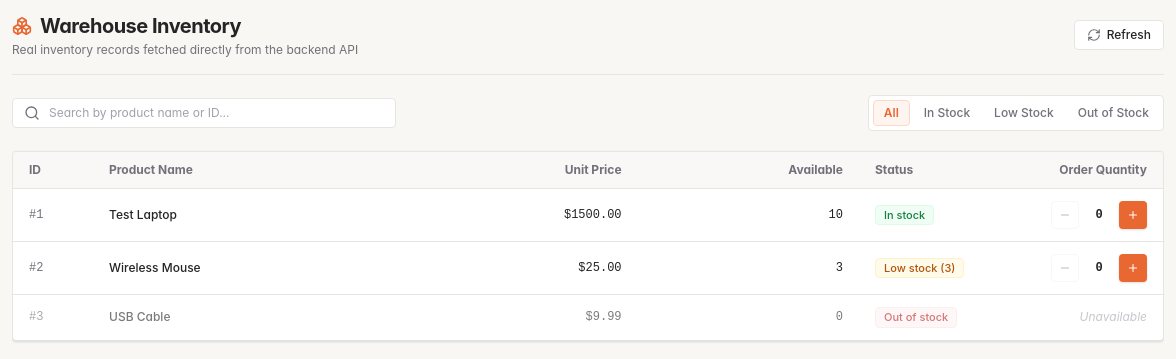
it: ProductsPage Component › filters by stock status (Low Stock, Out of Stock)
Click the button "Low Stock" at [1024, 113], box [984,101,1064,125]
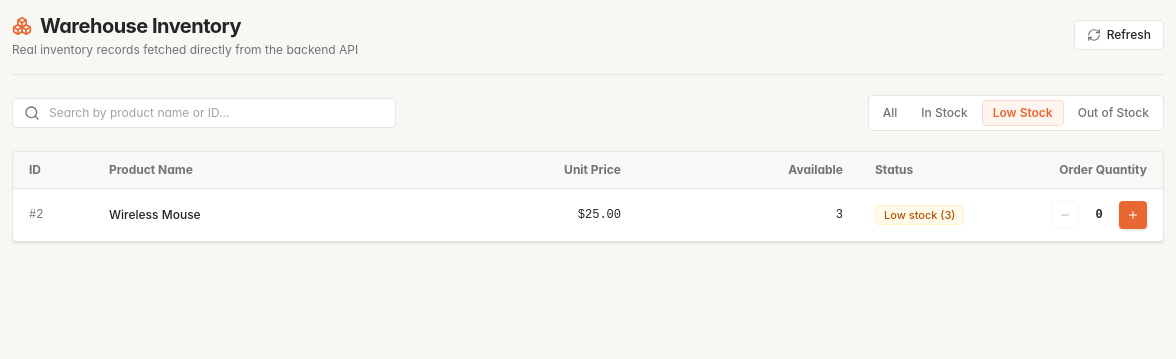
Expected: the text "Wireless Mouse" is shown, [93,188,410,241]
Expected: the text "Test Laptop" is gone
